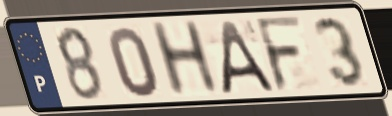0: (105, 22, 163, 101)
3: (312, 14, 368, 89)
8: (57, 25, 105, 103)
A: (219, 17, 278, 96)
F: (252, 13, 306, 95)
H: (145, 18, 223, 100)
